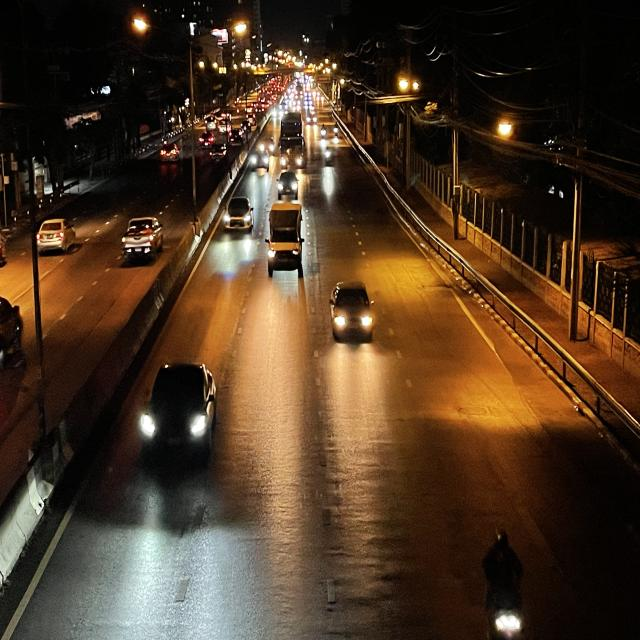bike: (481, 524, 526, 640)
car: (140, 358, 217, 466), (329, 276, 376, 345), (220, 195, 254, 234)
truck: (265, 204, 305, 278)
